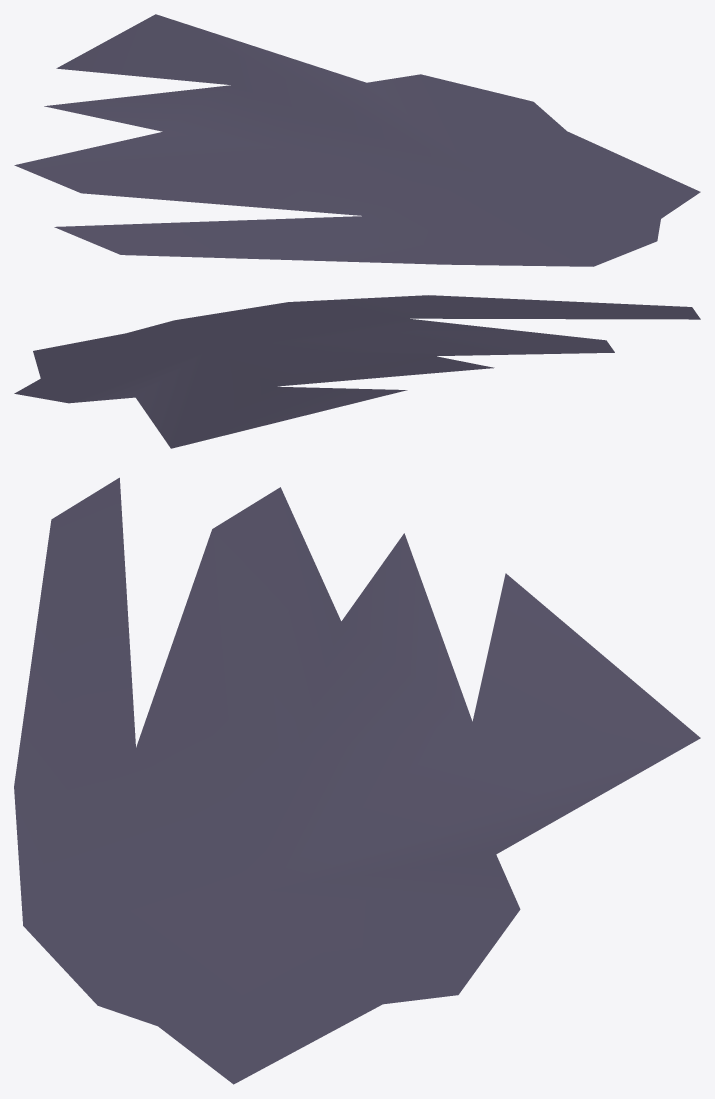
The model's file is FB_Quad1.fbx.
3 renders of one model, top to bottom at view 1: azimuth 30°, elevation 25°; view 2: azimuth 150°, elevation 25°; view 3: azimuth 270°, elevation 25°, orthographic. The views are drawn at different scales.
Visible parts, largest first — view 1: pPlane2; view 2: pPlane2; view 3: pPlane2.
Part boxes in pixels (x1=…): pPlane2: x1=14, y1=14, x2=700, y2=266; pPlane2: x1=14, y1=295, x2=700, y2=448; pPlane2: x1=14, y1=477, x2=700, y2=1084.
Bounding box in the file's own units: 323 × 78.44 × 232.
